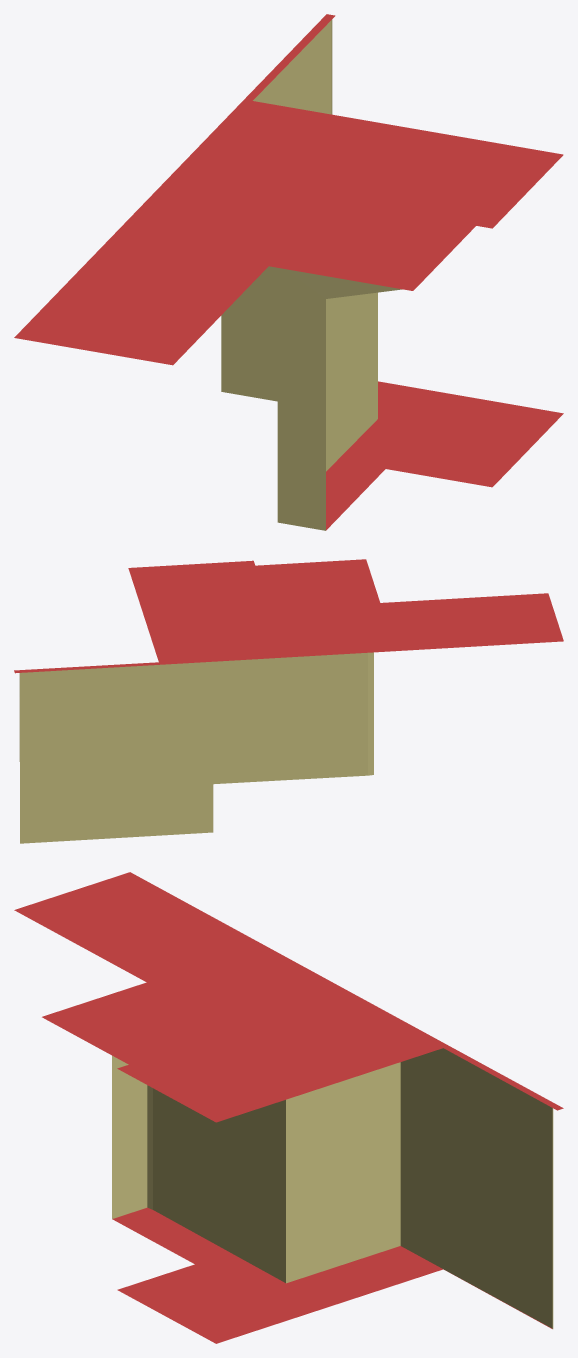
3 renders of one model, top to bottom at view 1: azimuth 30°, elevation 25°; view 2: azimuth 150°, elevation 25°; view 3: azimuth 270°, elevation 25°, orthographic. The views are drawn at different scales.
Size of the model in its own units: 19.66 by 18.24 by 8.1.
